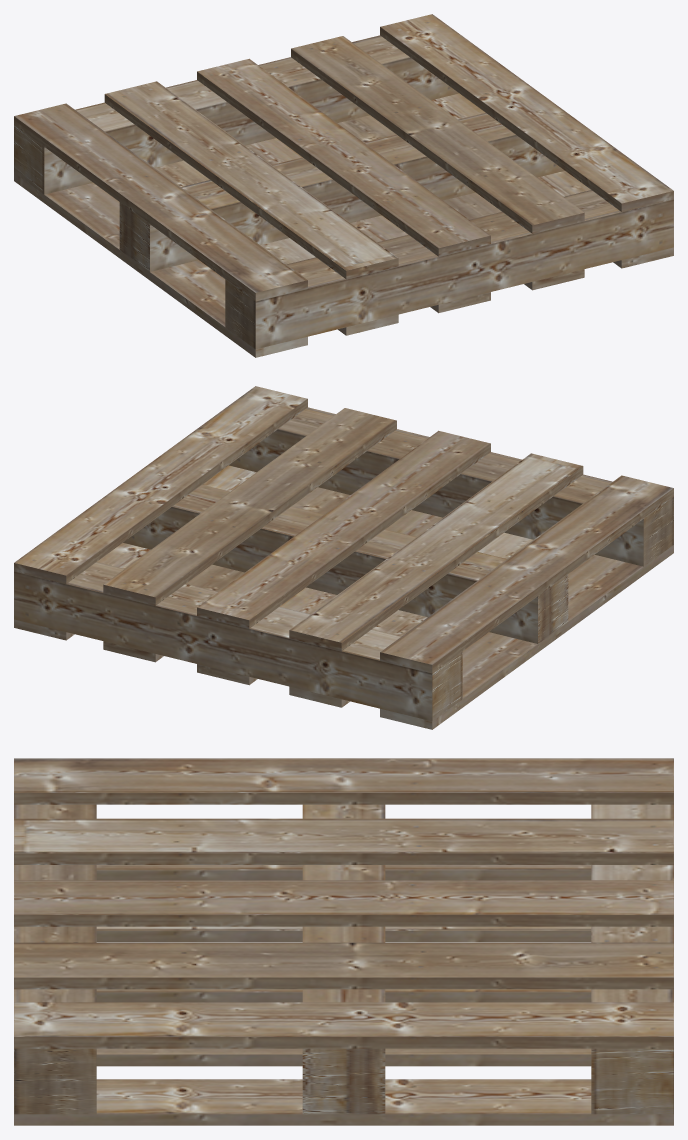
The model's file is Wooden_Palette.fbx.
The picture shows the model from 3 angles, top to bottom: view 1: azimuth 30°, elevation 25°; view 2: azimuth 150°, elevation 25°; view 3: azimuth 270°, elevation 25°; orthographic projection. The views are drawn at different scales.
Parts seen in each view (by area): view 1: Wooden_Palette; view 2: Wooden_Palette; view 3: Wooden_Palette.
Boxes of the visible parts, <box> form: Wooden_Palette: <box>14,14,673,357</box>; Wooden_Palette: <box>14,386,673,729</box>; Wooden_Palette: <box>14,758,673,1125</box>.
Bounding box in the file's own units: 8 × 1.19 × 8.
